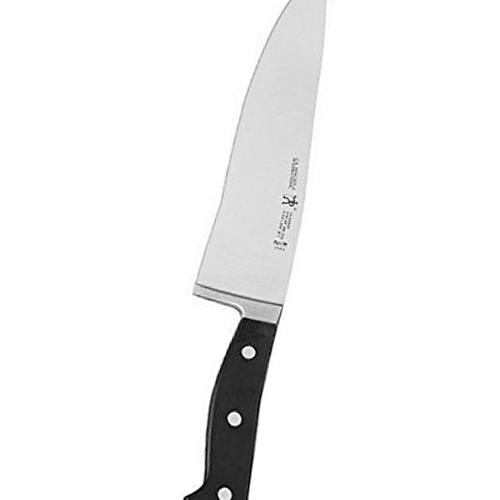knife: (184, 1, 328, 500)
